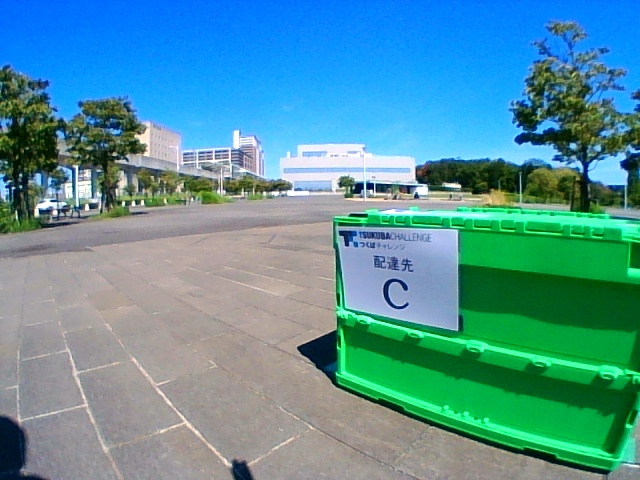green_box: (333, 206, 640, 472)
tag_c: (364, 234, 433, 313)
